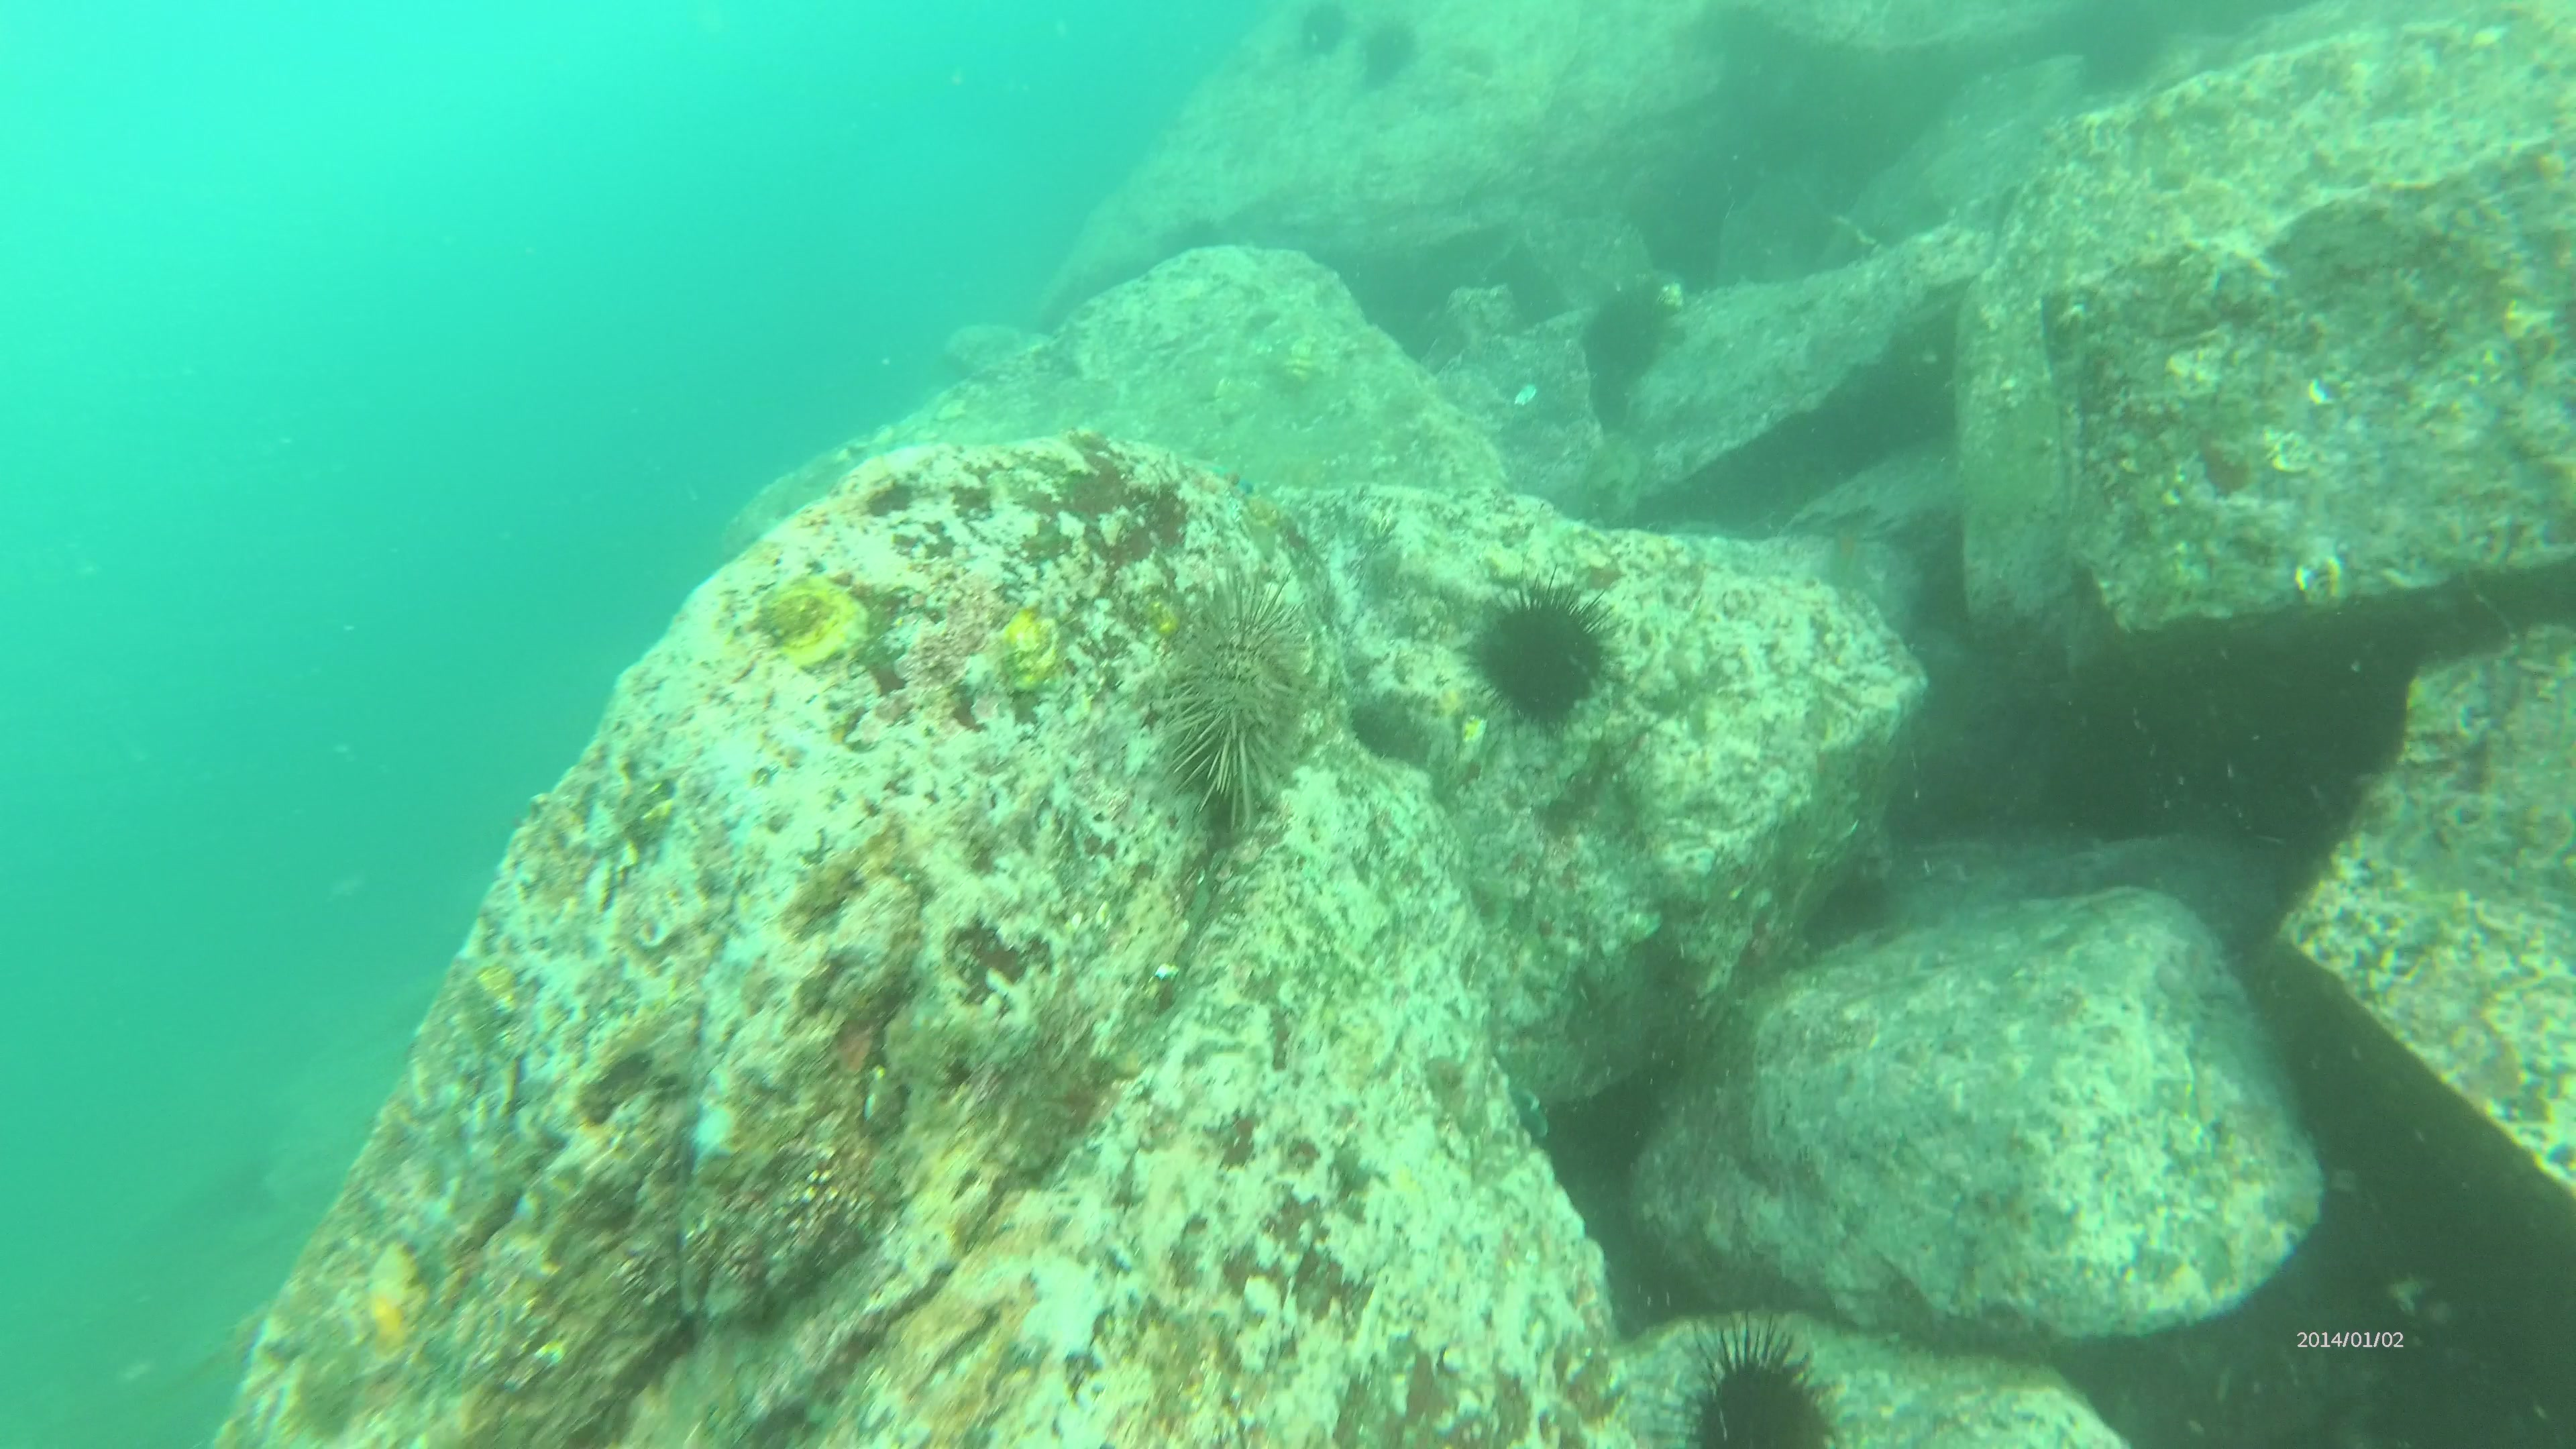echinus: (1171, 543, 1327, 842), (1638, 1304, 1852, 1449), (1468, 563, 1624, 736), (1582, 269, 1677, 403), (1794, 870, 1890, 957), (1352, 2, 1422, 88), (1290, 0, 1357, 64)
scallop: (729, 563, 881, 663), (984, 591, 1079, 694)
